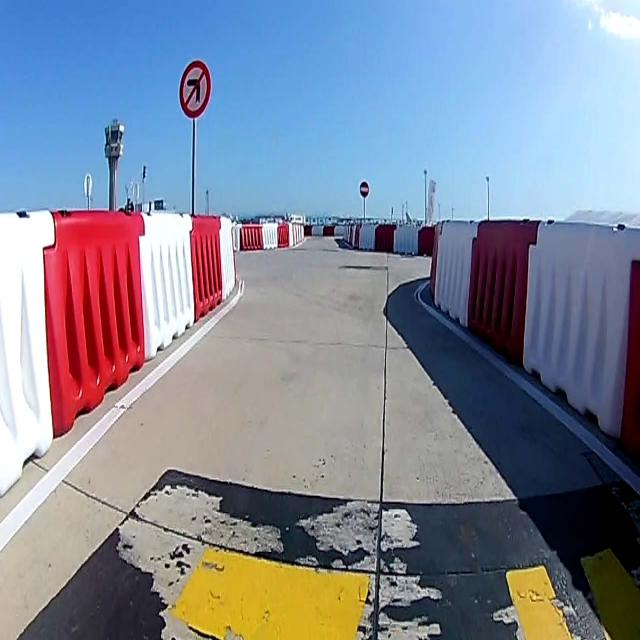girisyok: (359, 180, 369, 198)
soladonulmez: (178, 60, 212, 118)
